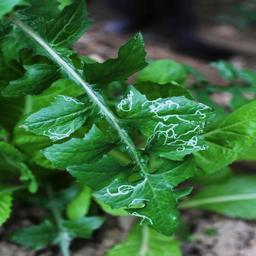liriomyza: (141, 95, 210, 155), (104, 176, 148, 197), (114, 89, 133, 112), (129, 210, 154, 225), (41, 128, 69, 141), (57, 93, 83, 105)
